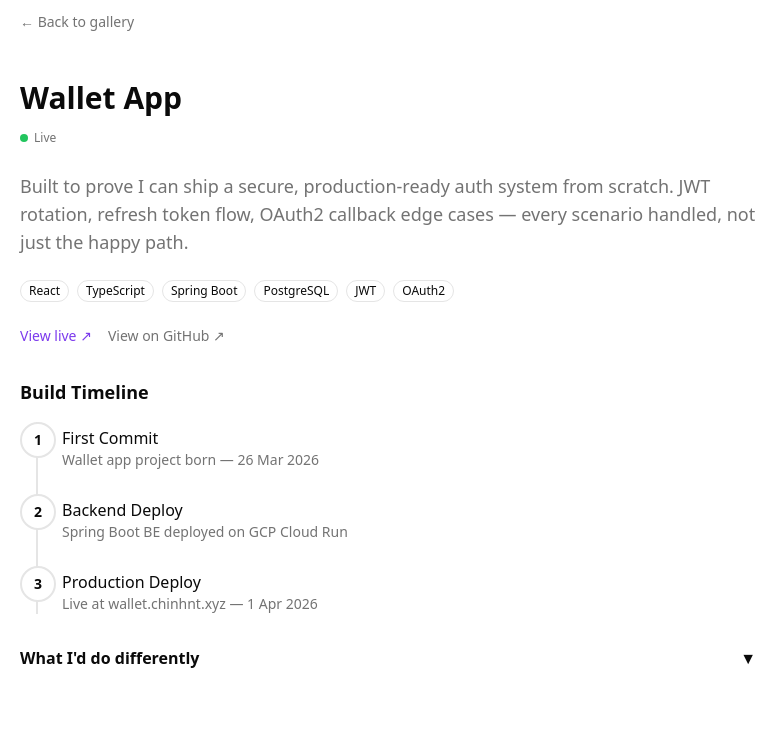
Test: ProjectDetailPage › collapsible section toggles on click
The width and height of the screenshot is (777, 747).
Click the button "What I'd do differently ▼" at (110, 658), box [20,646,756,670]
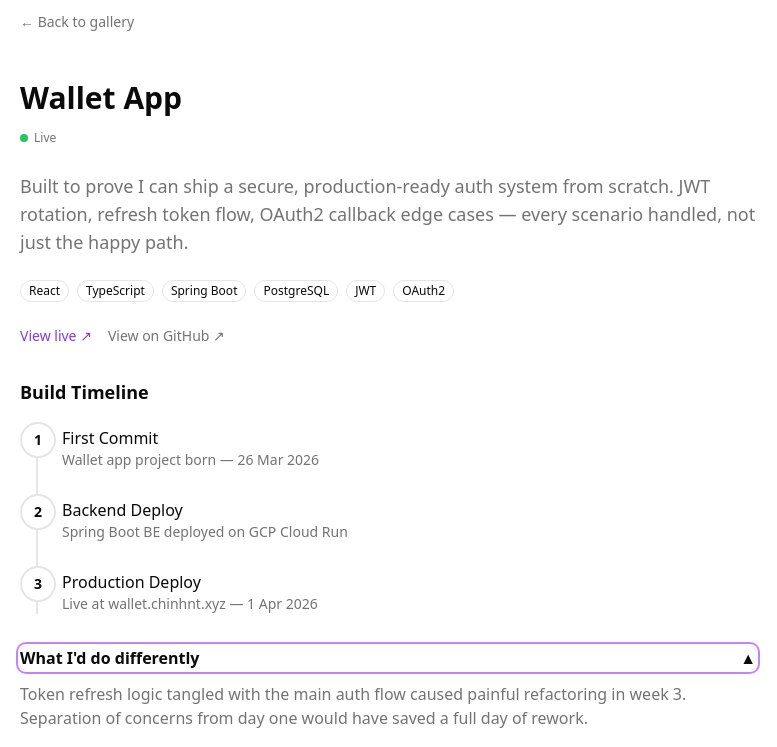
Now the button "What I'd do differently ▲" is expanded, box [20,646,756,670]
Now the element with test id "lessons-content" is shown, box [20,670,756,730]
